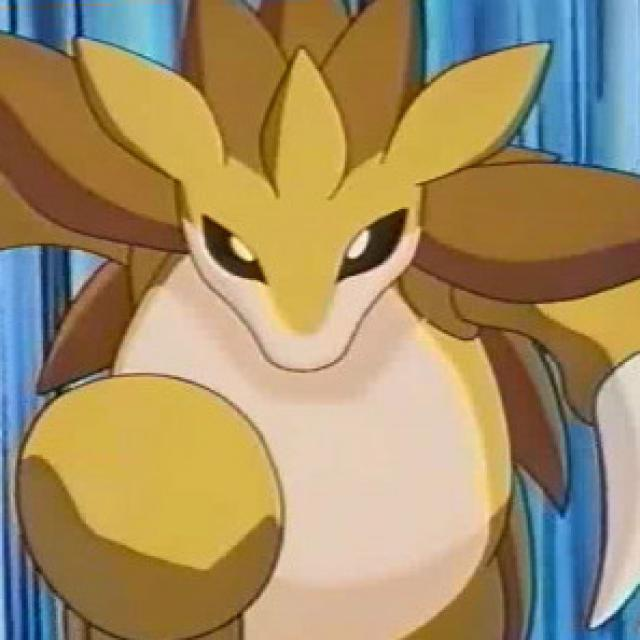Sandslash: (6, 0, 640, 627)
